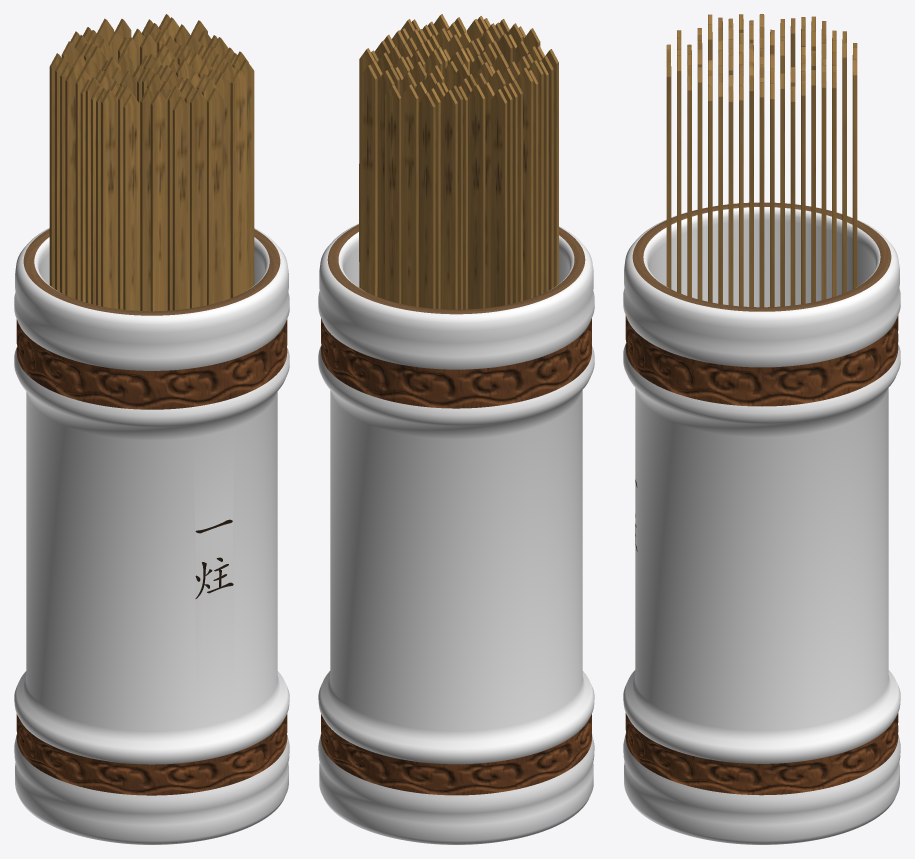
File: yizhu-startup-320-090dc4a20d31.glb
3 renders of one model, left to right at view 1: azimuth 30°, elevation 25°; view 2: azimuth 150°, elevation 25°; view 3: azimuth 270°, elevation 25°, orthographic.
Parts seen in each view (by area): view 1: Wood_vessel_surface, Timber incised collar 1, Timber incised collar 0, Stick_049, Stick_010, Stick_040, Stick_052, Stick_073, Stick_079, Stick_019, Stick_027, Stick_058 (+12 smaller); view 2: Wood_vessel_surface, Timber incised collar 1, Timber incised collar 0, Stick_089, Stick_021, Stick_013, Stick_044, Stick_064, Stick_034, Stick_085, Stick_086, Stick_028 (+14 smaller); view 3: Wood_vessel_surface, Timber incised collar 1, Timber incised collar 0, Stick_019, Stick_003, Stick_078, Stick_009, Stick_083, Stick_097, Stick_063, Stick_100, Stick_015 (+10 smaller).
Boxes of the visible parts, box(x1,y1,x2,y2) form: Wood_vessel_surface: box(14, 228, 289, 844); Timber incised collar 1: box(16, 319, 287, 409); Timber incised collar 0: box(16, 714, 287, 795); Stick_049: box(230, 69, 247, 297); Stick_010: box(150, 90, 167, 311); Stick_040: box(172, 96, 189, 310); Stick_052: box(101, 88, 117, 308); Stick_073: box(190, 88, 206, 308); Stick_079: box(123, 93, 139, 310); Stick_019: box(207, 88, 223, 305); Stick_027: box(65, 66, 79, 298); Stick_058: box(140, 88, 154, 311); Wood_vessel_surface: box(318, 223, 594, 844); Timber incised collar 1: box(321, 318, 591, 408); Timber incised collar 0: box(321, 714, 591, 795); Stick_089: box(468, 84, 485, 309); Stick_021: box(401, 84, 418, 306); Stick_013: box(490, 89, 507, 307); Stick_044: box(384, 84, 401, 303); Stick_064: box(361, 64, 377, 296); Stick_034: box(441, 89, 457, 309); Stick_085: box(419, 92, 435, 308); Stick_086: box(516, 67, 533, 300); Stick_028: box(378, 70, 394, 299); Wood_vessel_surface: box(623, 202, 900, 844); Timber incised collar 1: box(625, 315, 898, 406); Timber incised collar 0: box(625, 713, 898, 795); Stick_019: box(666, 61, 671, 288); Stick_003: box(821, 72, 826, 300); Stick_078: box(759, 82, 764, 307); Stick_009: box(790, 86, 795, 305); Stick_083: box(728, 86, 733, 305); Stick_097: box(842, 42, 846, 293); Stick_063: box(677, 55, 681, 293); Stick_100: box(780, 73, 784, 306); Stick_015: box(697, 67, 701, 300).
Size of the model in its own units: 0.1288 by 0.381 by 0.1288.
Materials: 6 (4 with a texture image).
